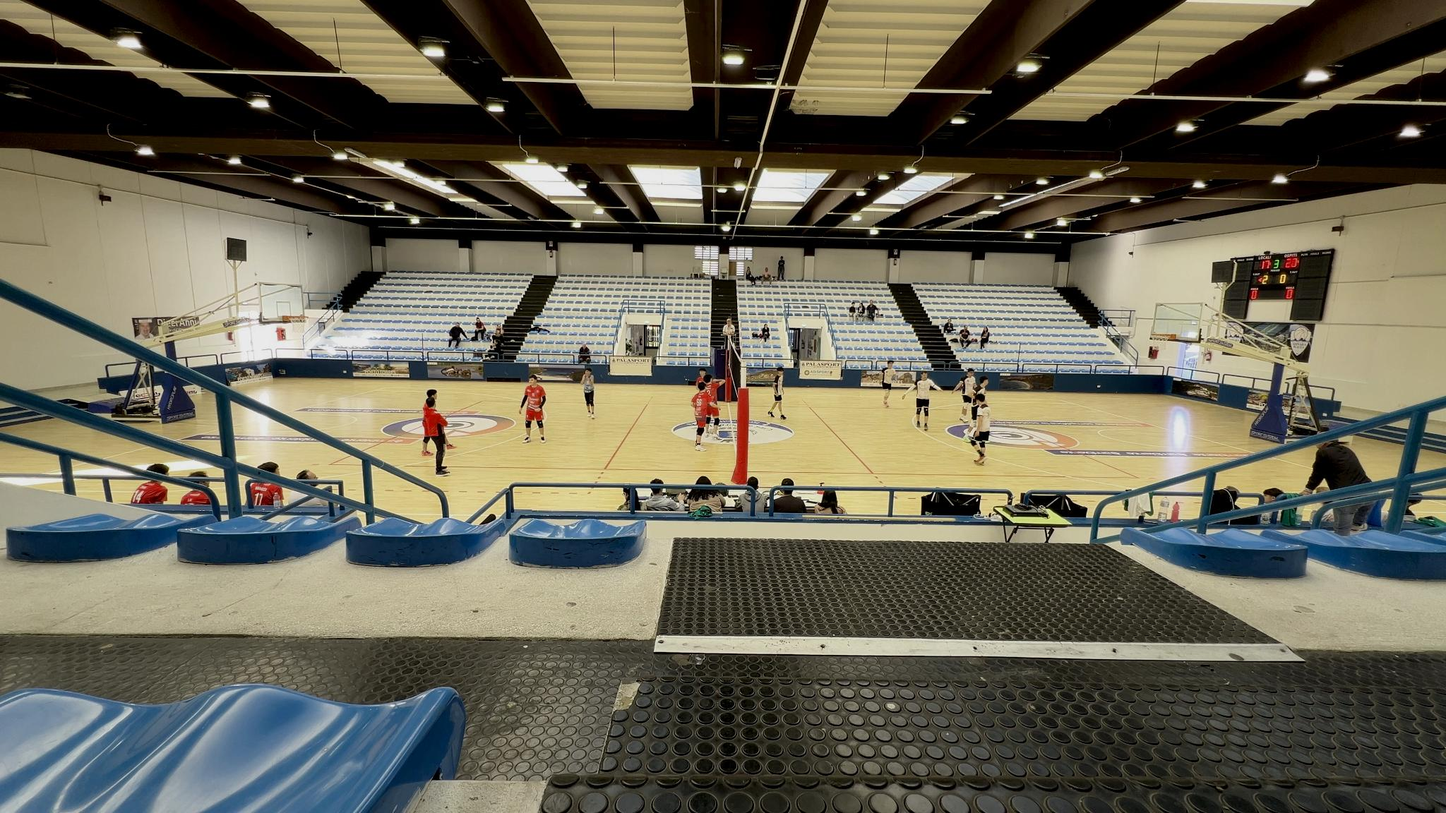volleyball court: (330, 399, 1140, 478)
